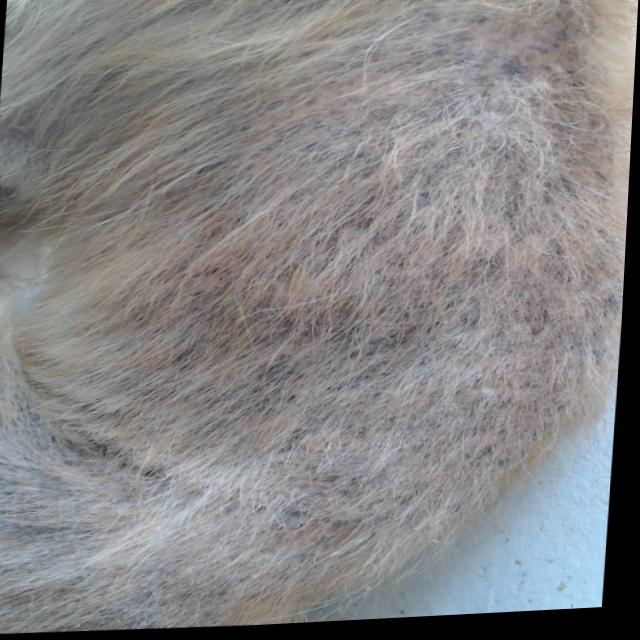demodicosis: (328, 278, 604, 516), (418, 10, 558, 106)
